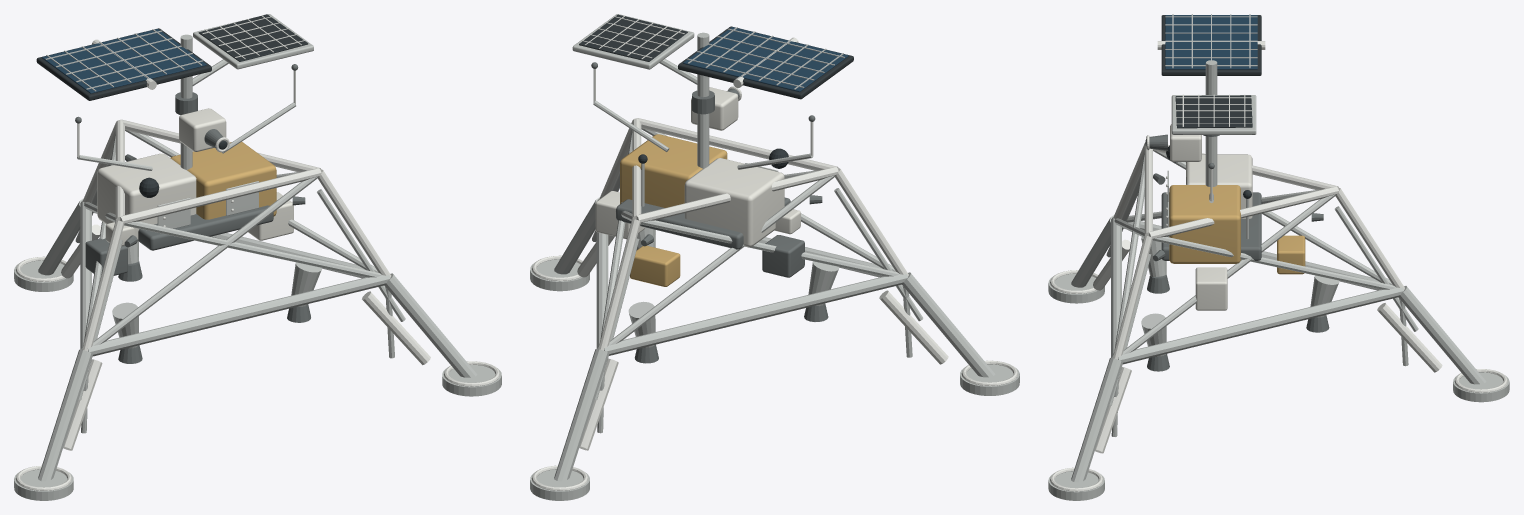
File: surveyor 1.fbx
3 renders of one model, left to right at view 1: azimuth 30°, elevation 25°; view 2: azimuth 150°, elevation 25°; view 3: azimuth 270°, elevation 25°, orthographic. The views are drawn at different scales.
Visible parts, largest first — view 1: Solar panel active surface, Thermal compartment B, Thermal compartment A, Lower triangular perimeter rail 2, High gain antenna dark face, Frame diagonal strut 2, Landing leg 2 | outer strut, Upper triangular frame rail 2, Central equipment deck, Frame diagonal strut crossing 2, Landing leg 3 | outer strut, Rectangular solar panel substrate (+25 smaller); view 2: Thermal compartment B, Solar panel active surface, Thermal compartment A, Lower triangular perimeter rail 1, High gain antenna dark face, Landing leg 1 | outer strut, Landing leg 2 | outer strut, Frame diagonal strut 1, Telemetry electronics package, Upper triangular frame rail 1, Central equipment deck, Upper triangular frame rail 2 (+23 smaller); view 3: Thermal compartment A, Solar panel active surface, Lower triangular perimeter rail 3, High gain antenna dark face, Landing leg 3 | outer strut, Thermal compartment B, Landing leg 1 | outer strut, Frame diagonal strut crossing 3, Upper triangular frame rail 3, Frame diagonal strut 3, Power electronics box, Central equipment deck (+23 smaller).
Part boxes in pixels (x1=…): Solar panel active surface: x1=42, y1=29, x2=206, y2=93; Thermal compartment B: x1=97, y1=153, x2=196, y2=240; Thermal compartment A: x1=170, y1=141, x2=276, y2=219; Lower triangular perimeter rail 2: x1=87, y1=275, x2=390, y2=356; High gain antenna dark face: x1=198, y1=14, x2=308, y2=61; Frame diagonal strut 2: x1=92, y1=176, x2=318, y2=345; Landing leg 2 | outer strut: x1=38, y1=349, x2=92, y2=481; Upper triangular frame rail 2: x1=120, y1=168, x2=321, y2=224; Central equipment deck: x1=138, y1=205, x2=273, y2=250; Frame diagonal strut crossing 2: x1=124, y1=221, x2=382, y2=277; Landing leg 3 | outer strut: x1=384, y1=273, x2=477, y2=377; Rectangular solar panel substrate: x1=36, y1=28, x2=211, y2=100; Thermal compartment B: x1=684, y1=158, x2=784, y2=246; Solar panel active surface: x1=683, y1=27, x2=848, y2=92; Thermal compartment A: x1=620, y1=134, x2=727, y2=207; Lower triangular perimeter rail 1: x1=604, y1=274, x2=907, y2=355; High gain antenna dark face: x1=579, y1=14, x2=687, y2=61; Landing leg 1 | outer strut: x1=554, y1=349, x2=608, y2=481; Landing leg 2 | outer strut: x1=902, y1=272, x2=995, y2=377; Frame diagonal strut 1: x1=609, y1=175, x2=835, y2=345; Telemetry electronics package: x1=630, y1=245, x2=680, y2=286; Upper triangular frame rail 1: x1=636, y1=167, x2=838, y2=222; Central equipment deck: x1=616, y1=197, x2=790, y2=249; Upper triangular frame rail 2: x1=637, y1=118, x2=838, y2=170; Thermal compartment A: x1=1169, y1=185, x2=1240, y2=263; Solar panel active surface: x1=1165, y1=15, x2=1257, y2=69; Lower triangular perimeter rail 3: x1=1118, y1=287, x2=1403, y2=364; High gain antenna dark face: x1=1175, y1=95, x2=1252, y2=128; Landing leg 3 | outer strut: x1=1071, y1=358, x2=1122, y2=482; Thermal compartment B: x1=1186, y1=154, x2=1252, y2=218; Landing leg 1 | outer strut: x1=1398, y1=286, x2=1486, y2=384; Frame diagonal strut crossing 3: x1=1152, y1=237, x2=1396, y2=289; Upper triangular frame rail 3: x1=1149, y1=186, x2=1338, y2=239; Frame diagonal strut 3: x1=1123, y1=194, x2=1336, y2=354; Power electronics box: x1=1195, y1=267, x2=1227, y2=310; Central equipment deck: x1=1161, y1=192, x2=1261, y2=260.
Size of the model in its own units: 408 by 282 by 359.
